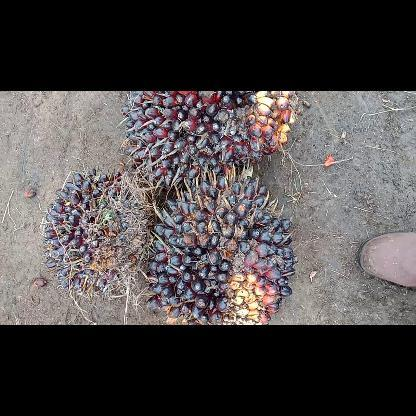TBS mentah: (143, 165, 299, 324), (117, 91, 303, 193), (41, 166, 151, 300)
